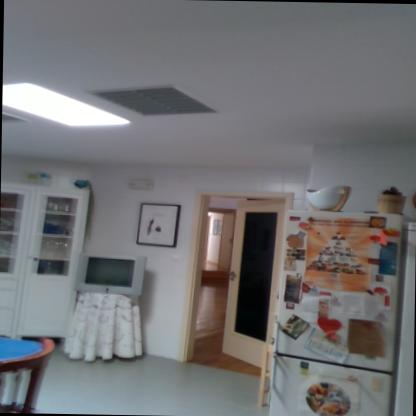semi: (187, 192, 286, 366)
